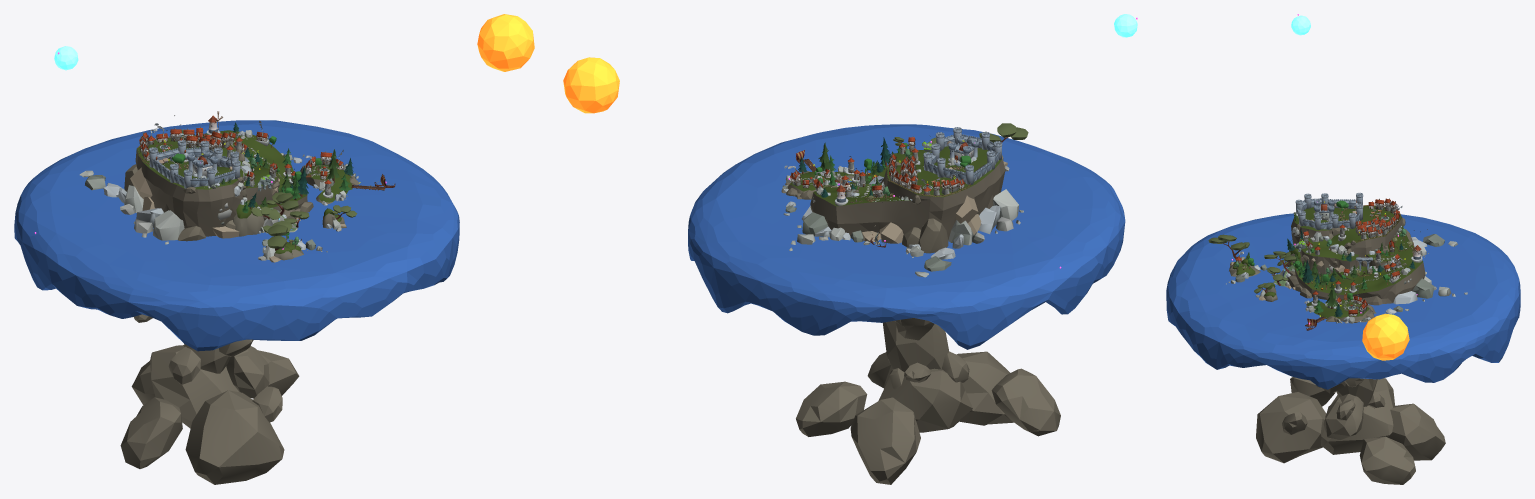
Rendered from issum_challenges.glb.
The picture shows the model from 3 angles, left to right: view 1: azimuth 30°, elevation 25°; view 2: azimuth 150°, elevation 25°; view 3: azimuth 270°, elevation 25°; orthographic projection. The views are drawn at different scales.
Parts seen in each view (by area): view 1: Plane.004, mff_stone_0.058, mff_island_large, mff_stone_0.045, mff_stone_0.044, Sun, mff_stone_0.041, Stones_1_AO.011, mff_stone_0.043, mff_stone_0.057, mff_island_small, mff_stone_0.053 (+5 smaller); view 2: Plane.004, mff_island_large, mff_stone_0.056, mff_stone_0.045, mff_stone_0.044, mff_stone_0.043, Sun, mff_stone_0.058, mff_stone_0.052, Stones_1_AO.011, mff_stone_0.007, Stones_4_AO.002 (+2 smaller); view 3: Plane.004, mff_island_large, mff_stone_0.058, mff_stone_0.056, mff_stone_0.043, mff_stone_0.045, Sun, mff_stone_0.041, Stones_4_AO.002, mff_stone_0.044, mff_stone_0.052, mff_island_small (+1 smaller).
Boxes of the visible parts, x1,y1,x2,y2 form: Plane.004: [14, 120, 459, 351]; mff_stone_0.058: [185, 390, 284, 484]; mff_island_large: [135, 130, 307, 236]; mff_stone_0.045: [150, 345, 239, 428]; mff_stone_0.044: [120, 397, 182, 468]; Sun: [477, 14, 534, 71]; mff_stone_0.041: [226, 346, 269, 398]; Stones_1_AO.011: [133, 208, 184, 244]; mff_stone_0.043: [257, 350, 299, 395]; mff_stone_0.057: [168, 346, 200, 384]; mff_island_small: [301, 164, 352, 203]; mff_stone_0.053: [252, 386, 282, 422]; Plane.004: [688, 124, 1125, 349]; mff_island_large: [810, 146, 1005, 239]; mff_stone_0.056: [850, 397, 920, 484]; mff_stone_0.045: [878, 368, 972, 432]; mff_stone_0.044: [991, 368, 1060, 436]; mff_stone_0.043: [796, 381, 867, 436]; Sun: [563, 57, 619, 113]; mff_stone_0.058: [957, 351, 1013, 425]; mff_stone_0.052: [883, 321, 948, 372]; Stones_1_AO.011: [978, 189, 1023, 234]; mff_stone_0.007: [918, 218, 948, 253]; Stones_4_AO.002: [789, 206, 828, 250]; Plane.004: [1166, 213, 1520, 389]; mff_island_large: [1291, 206, 1425, 305]; mff_stone_0.058: [1256, 392, 1326, 463]; mff_stone_0.056: [1388, 403, 1445, 460]; mff_stone_0.043: [1359, 436, 1415, 484]; mff_stone_0.045: [1321, 378, 1394, 454]; Sun: [1362, 313, 1409, 360]; mff_stone_0.041: [1323, 394, 1363, 439]; Stones_4_AO.002: [1393, 278, 1467, 304]; mff_stone_0.044: [1290, 377, 1335, 406]; mff_stone_0.052: [1336, 378, 1377, 406]; mff_island_small: [1306, 299, 1370, 321].
Bounding box in the file's own units: 346 × 289 × 247.
Materials: 51 (45 with a texture image).
